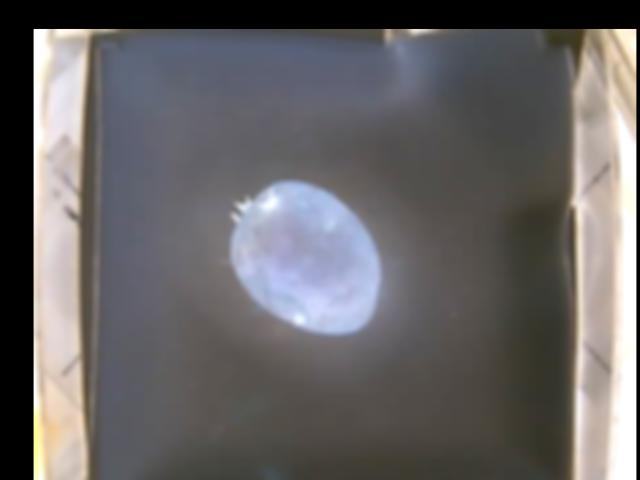Potato: (230, 179, 379, 331)
